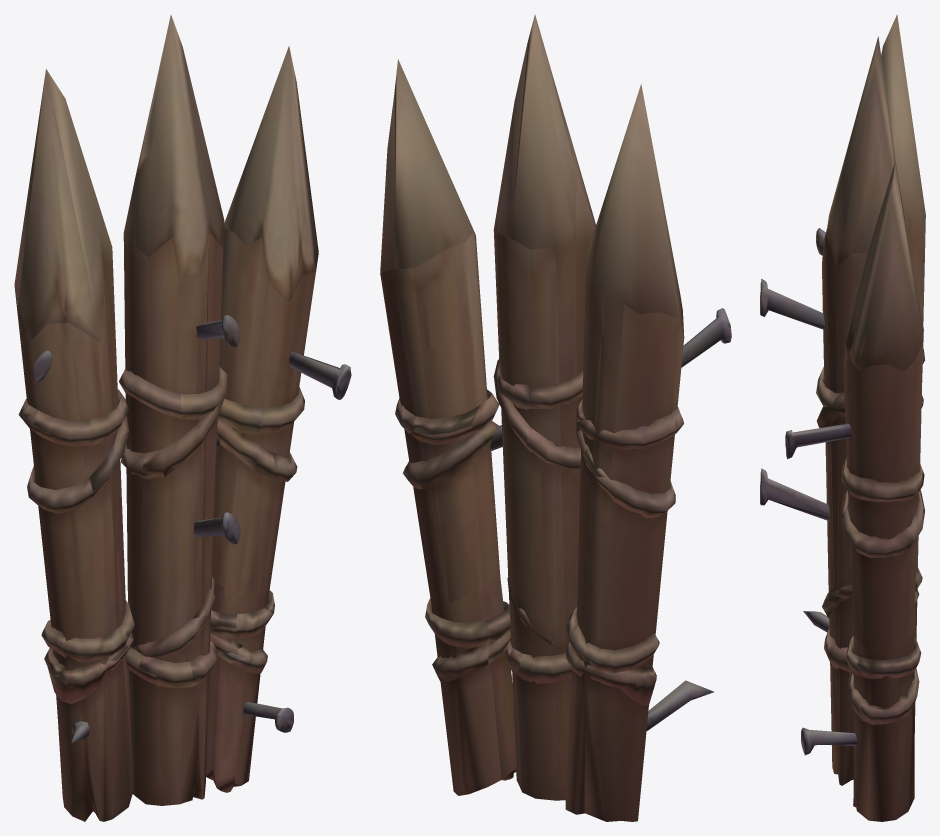
Rendered from palisade.glb.
The picture shows the model from 3 angles, left to right: view 1: azimuth 30°, elevation 25°; view 2: azimuth 150°, elevation 25°; view 3: azimuth 270°, elevation 25°; orthographic projection. The views are drawn at different scales.
Parts seen in each view (by area): view 1: palisade; view 2: palisade; view 3: palisade.
Part boxes in pixels (x1,y1,x2,y2): palisade: (14, 15, 351, 821); palisade: (380, 14, 731, 821); palisade: (760, 14, 925, 821).
Size of the model in its own units: 1.05 by 2.5 by 0.5.
1 material, 1 textured.
